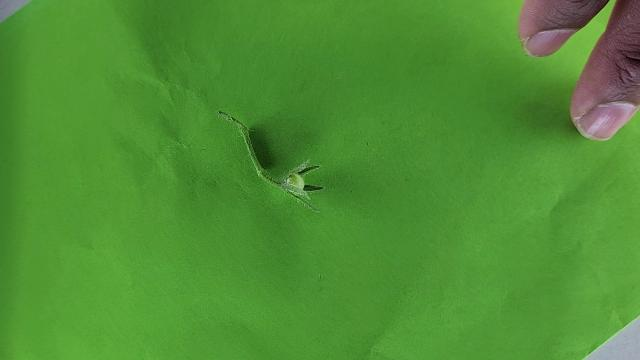Fruit Bud: (282, 161, 325, 197)
